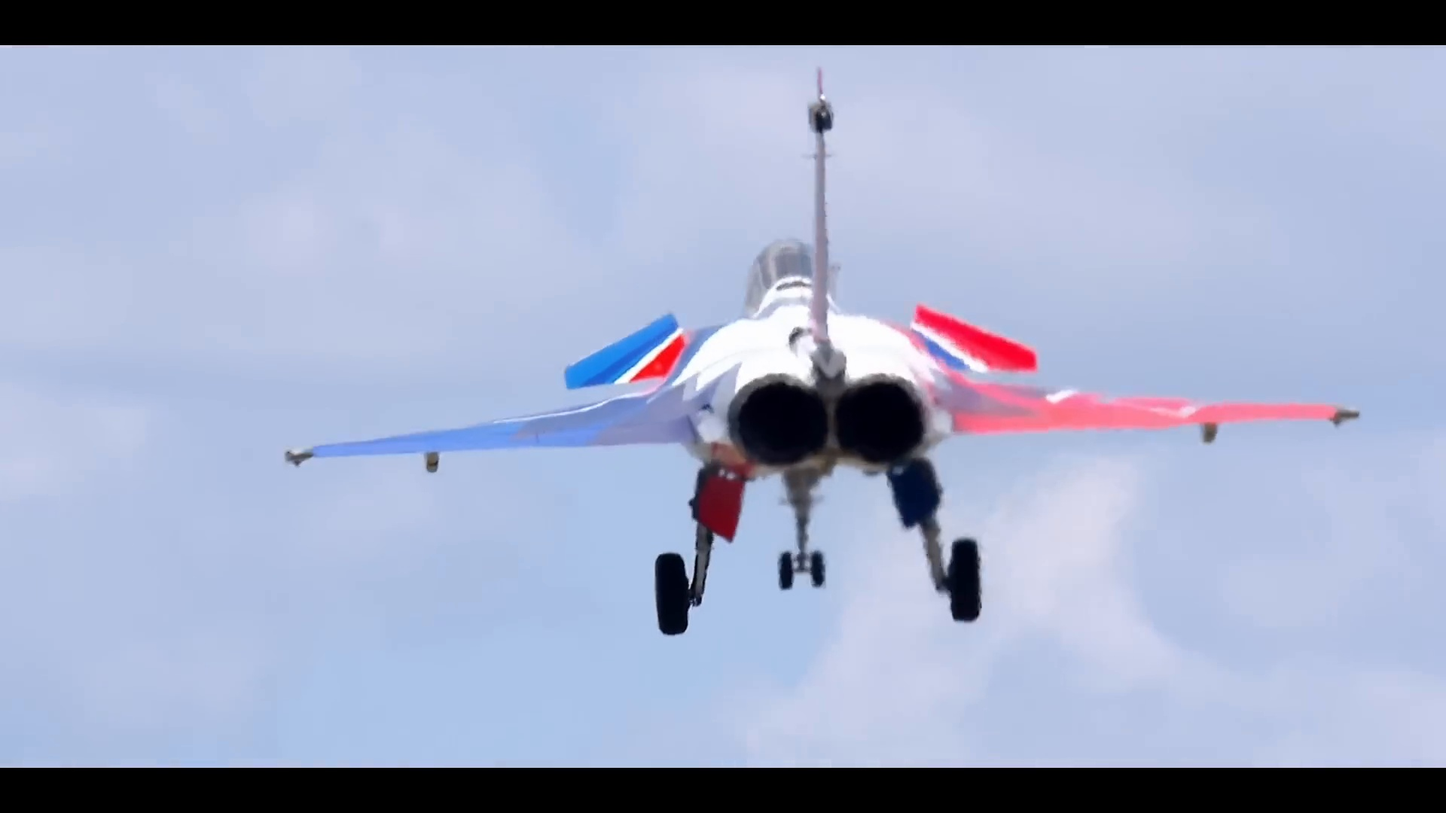Rafale: (278, 60, 1380, 646)
